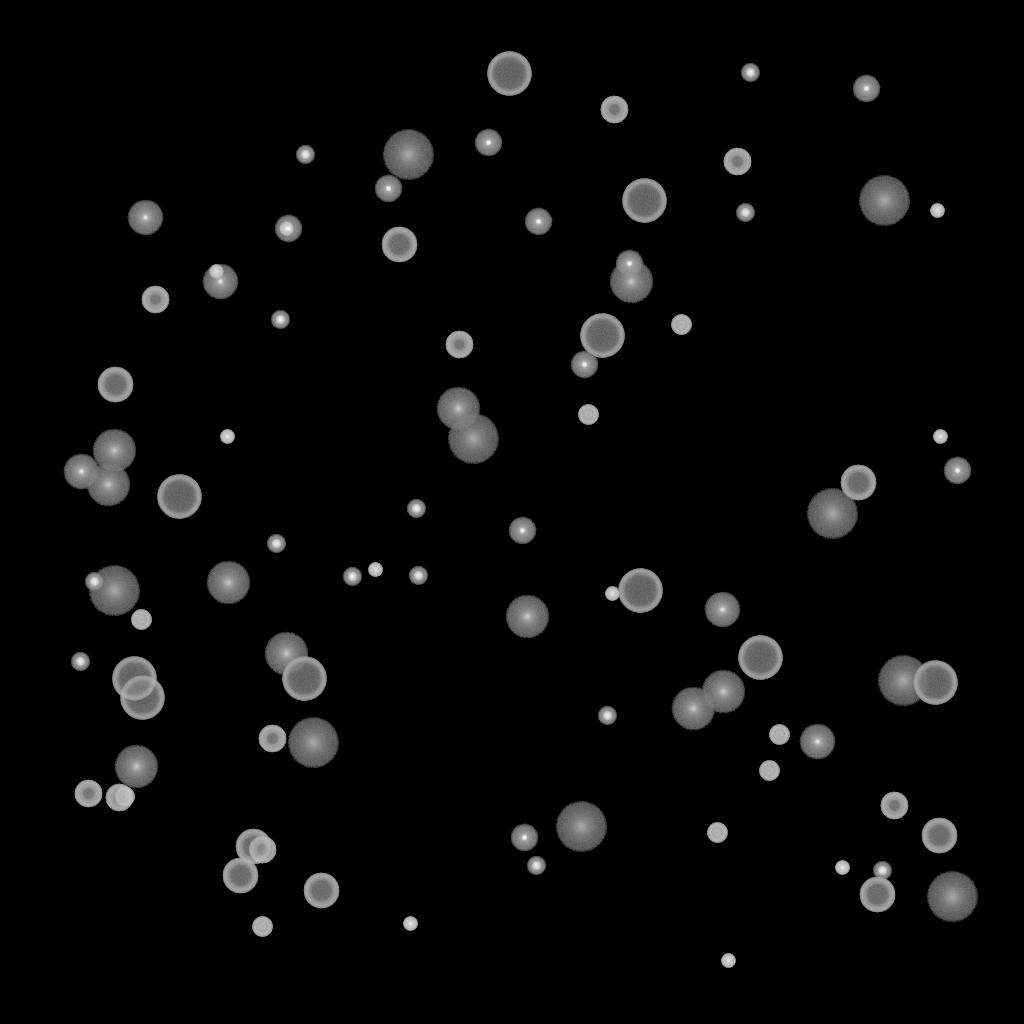depth:-10: (374, 175, 402, 203), (615, 250, 643, 278), (510, 824, 538, 852), (474, 129, 502, 157), (570, 351, 598, 379), (943, 457, 971, 485), (852, 75, 880, 103), (524, 208, 552, 236), (274, 215, 302, 243), (508, 517, 536, 545)
depth:-20: (271, 311, 289, 329), (407, 500, 425, 518), (598, 707, 616, 725), (527, 857, 545, 875), (741, 64, 759, 82), (873, 862, 891, 880), (409, 567, 427, 585), (343, 568, 361, 586), (267, 535, 285, 553), (71, 653, 89, 671), (85, 573, 103, 591), (736, 204, 754, 222), (296, 146, 314, 164)
depth:-30: (933, 430, 947, 444), (721, 954, 735, 968), (279, 222, 293, 236), (368, 563, 382, 577), (209, 265, 223, 279), (220, 430, 234, 444), (835, 861, 849, 875), (930, 204, 944, 218), (403, 917, 417, 931), (605, 587, 619, 601)
depth:-40: (252, 917, 272, 937), (671, 315, 691, 335), (707, 823, 727, 843), (759, 761, 779, 781), (578, 405, 598, 425), (769, 725, 789, 745), (114, 787, 134, 807), (131, 610, 151, 630)
depth:-50: (248, 836, 276, 864), (445, 331, 473, 359), (141, 286, 169, 314), (723, 148, 751, 176), (880, 792, 908, 820), (600, 96, 628, 124), (74, 780, 102, 808), (105, 784, 133, 812), (258, 725, 286, 753)
depth:-60: (859, 877, 895, 913), (235, 829, 271, 865), (921, 818, 957, 854), (303, 873, 339, 909), (97, 367, 133, 403), (840, 465, 876, 501), (381, 227, 417, 263), (222, 858, 258, 894)
depth:-70: (282, 657, 326, 701), (120, 676, 164, 720), (618, 569, 662, 613), (157, 475, 201, 519), (913, 661, 957, 705), (622, 179, 666, 223), (738, 636, 782, 680), (580, 314, 624, 358), (112, 657, 156, 701), (487, 52, 531, 96)
depth:0: (127, 200, 163, 236), (799, 724, 835, 760), (63, 454, 99, 490), (202, 264, 238, 300), (704, 592, 740, 628)
depth:10: (206, 561, 250, 605), (701, 670, 745, 714), (92, 429, 136, 473), (505, 595, 549, 639), (86, 463, 130, 507), (436, 387, 480, 431), (114, 745, 158, 789), (609, 260, 653, 304), (264, 632, 308, 676), (671, 687, 715, 731)
depth:20: (858, 176, 910, 226), (382, 130, 434, 180), (88, 566, 140, 616), (877, 656, 929, 706), (806, 489, 858, 539), (926, 872, 978, 922), (287, 718, 339, 768), (555, 802, 607, 852), (447, 414, 499, 464)
